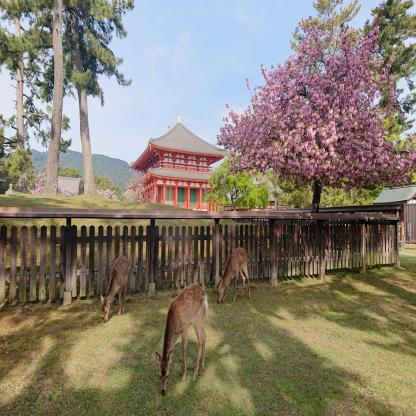YaeSakura: (213, 4, 416, 182), (29, 170, 64, 198), (124, 170, 148, 206), (94, 190, 122, 202)
